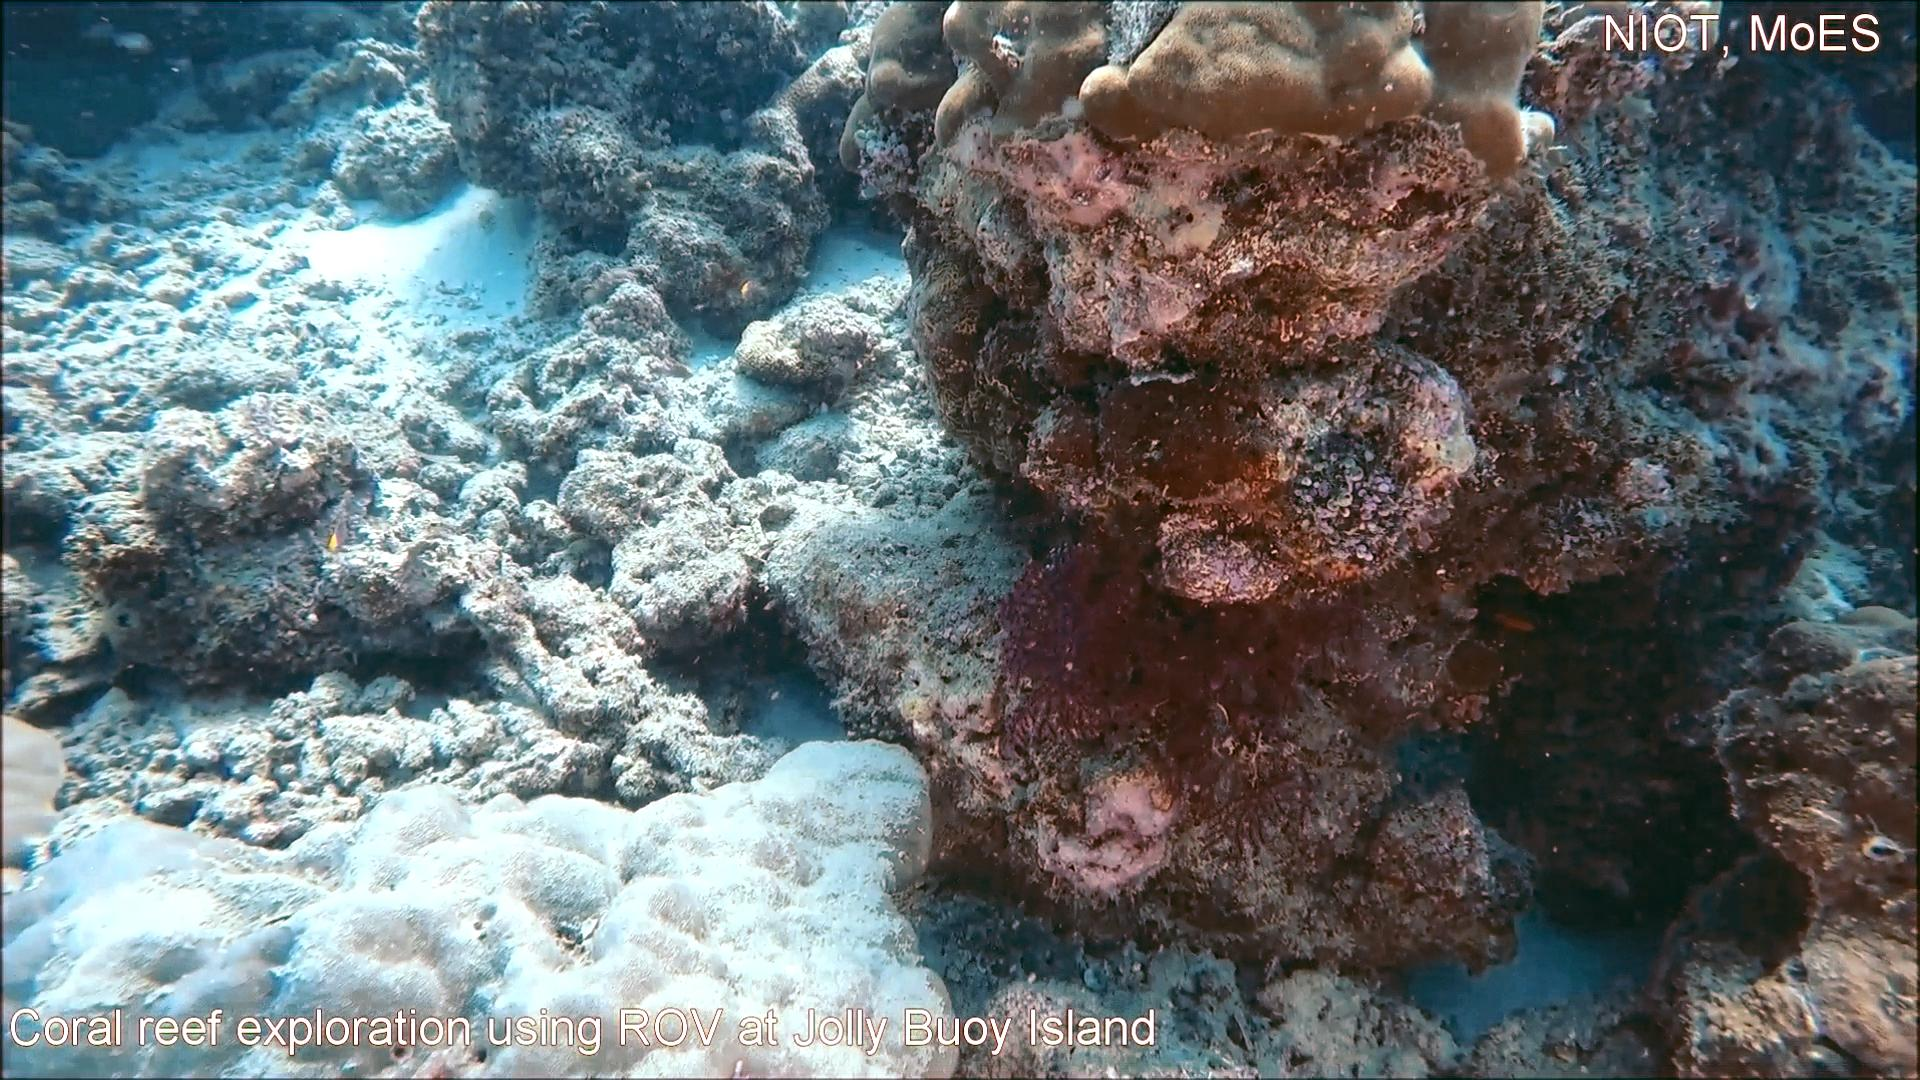Gorgonian-Purple Plexaura: (986, 505, 1370, 869)
Porites-Porites pukoensis: (264, 731, 967, 1080), (928, 0, 1552, 183)
